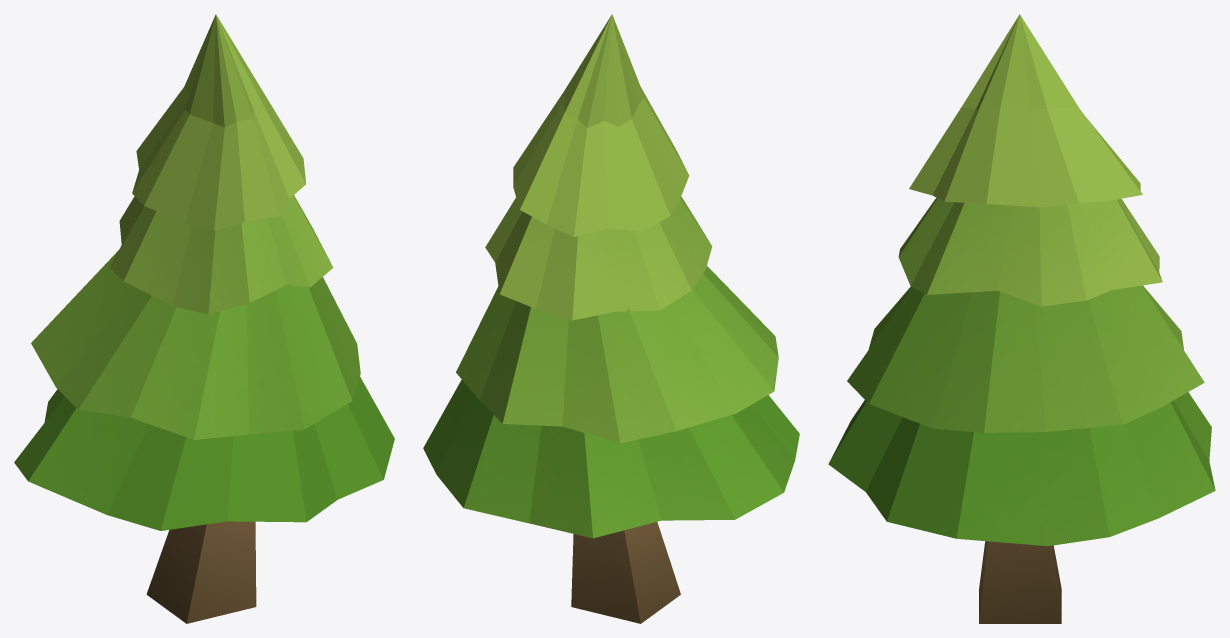
Rendered from tree1.fbx.
3 renders of one model, left to right at view 1: azimuth 30°, elevation 25°; view 2: azimuth 150°, elevation 25°; view 3: azimuth 270°, elevation 25°, orthographic. The views are drawn at different scales.
Visible parts, largest first — view 1: Tree2; view 2: Tree2; view 3: Tree2.
Boxes of the visible parts, bbox=[...] form: Tree2: bbox=[14, 14, 394, 623]; Tree2: bbox=[423, 14, 799, 623]; Tree2: bbox=[828, 14, 1215, 623].
Size of the model in its own units: 3.93 by 6.61 by 3.87.
